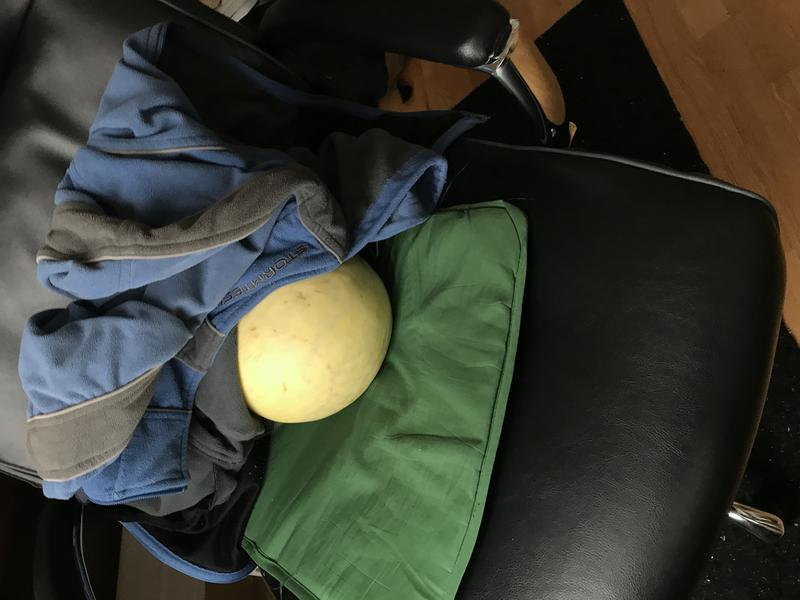honeydew: (226, 245, 399, 431)
